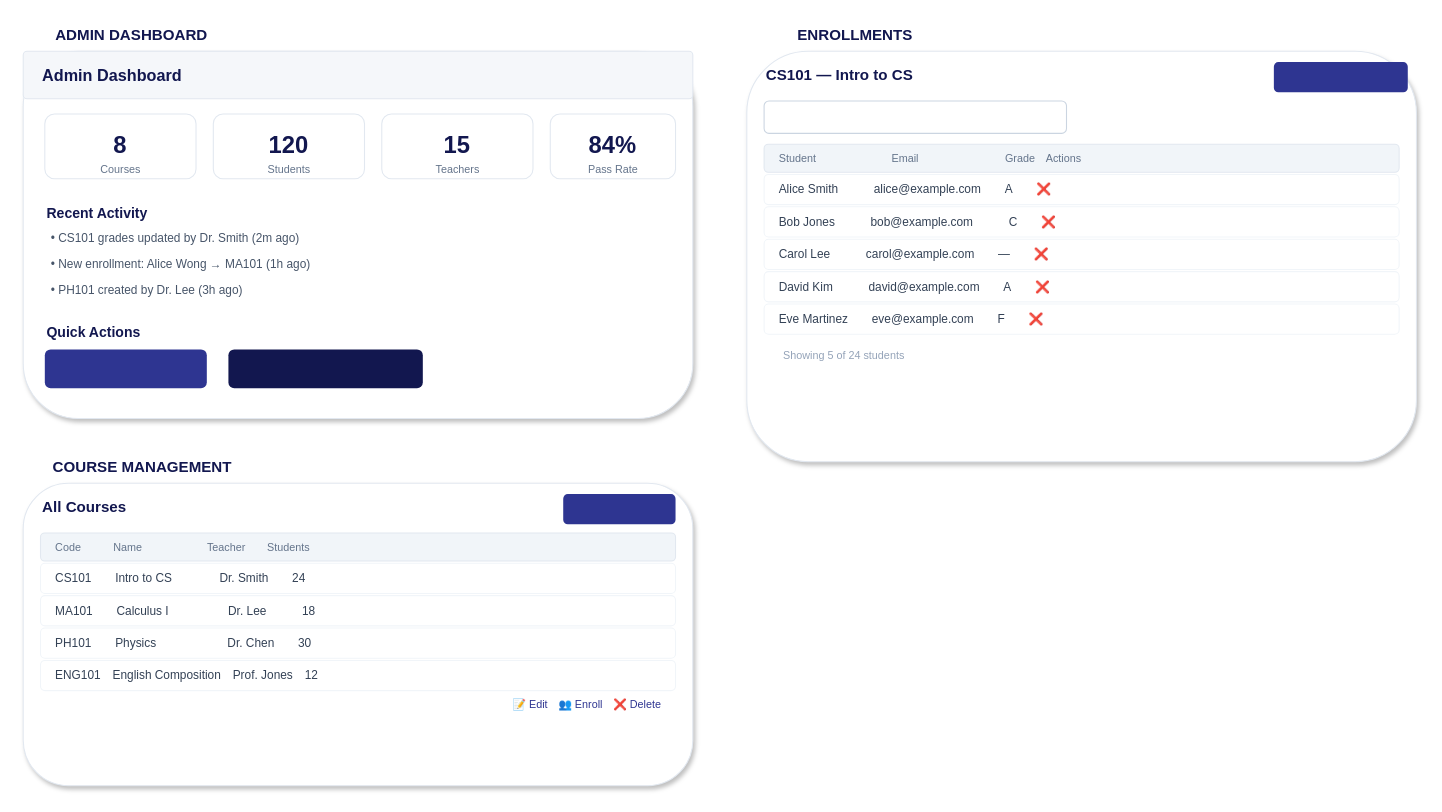
Some shapes in this 1442 by 812 pixel diagram are drawn without their labels. Each missing label, with the centre of its shape:
"+ Create Course" belongs at pixel 125 368.
"+ Enroll Student" belongs at pixel 1340 77.
"+ New Course" belongs at pixel 619 509.
"👥 Manage Enrollments" belongs at pixel 325 368.
"🔍 Search student..." belongs at pixel 914 116.
